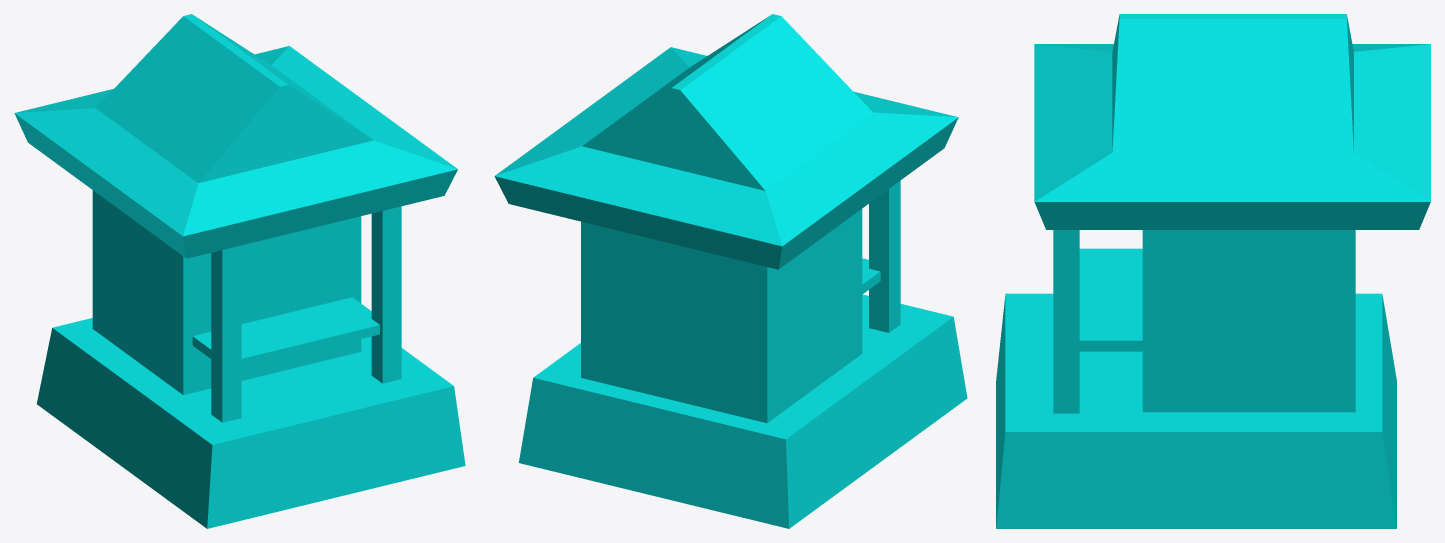
File: SM_Bld_Shrine_01_Collision.fbx
The picture shows the model from 3 angles, left to right: view 1: azimuth 30°, elevation 25°; view 2: azimuth 150°, elevation 25°; view 3: azimuth 270°, elevation 25°; orthographic projection. The views are drawn at different scales.
Visible parts, largest first — view 1: SM_Bld_Shrine_01_Collision; view 2: SM_Bld_Shrine_01_Collision; view 3: SM_Bld_Shrine_01_Collision.
Boxes of the visible parts, x1,y1,x2,y2 form: SM_Bld_Shrine_01_Collision: (14, 14, 465, 528); SM_Bld_Shrine_01_Collision: (494, 14, 967, 528); SM_Bld_Shrine_01_Collision: (996, 14, 1430, 528).
Size of the model in its own units: 267 by 346 by 311.
